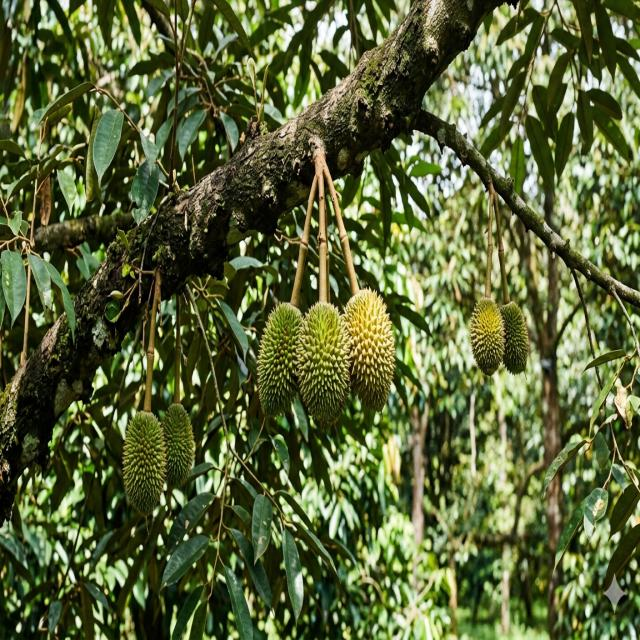immature: (295, 299, 351, 427), (343, 286, 396, 411), (255, 299, 304, 415), (122, 409, 166, 512), (468, 296, 506, 374), (161, 402, 195, 485), (498, 300, 530, 374)
